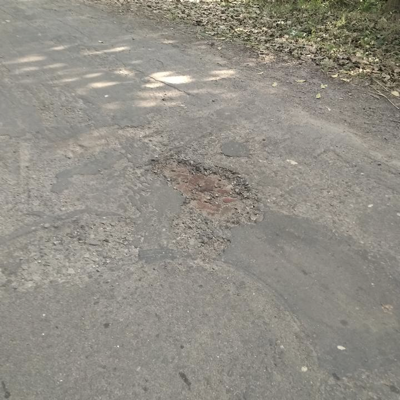pothole: (145, 155, 260, 229)
